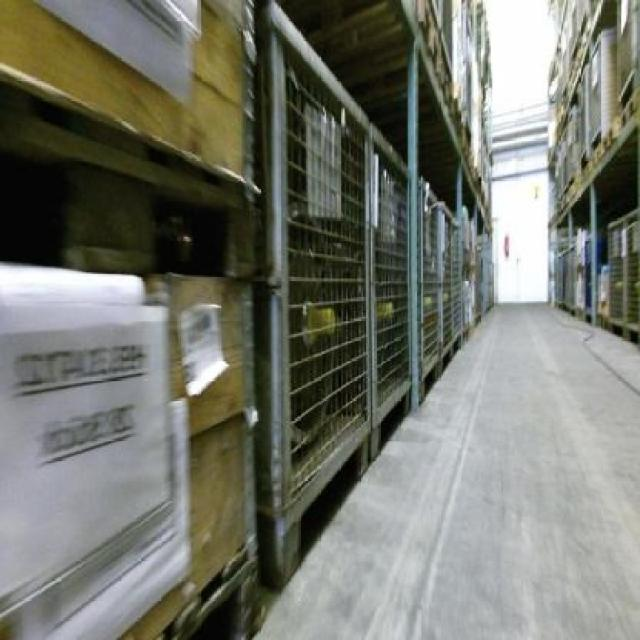floor: (252, 303, 637, 637)
pallets: (546, 0, 637, 342), (605, 591, 637, 637)
